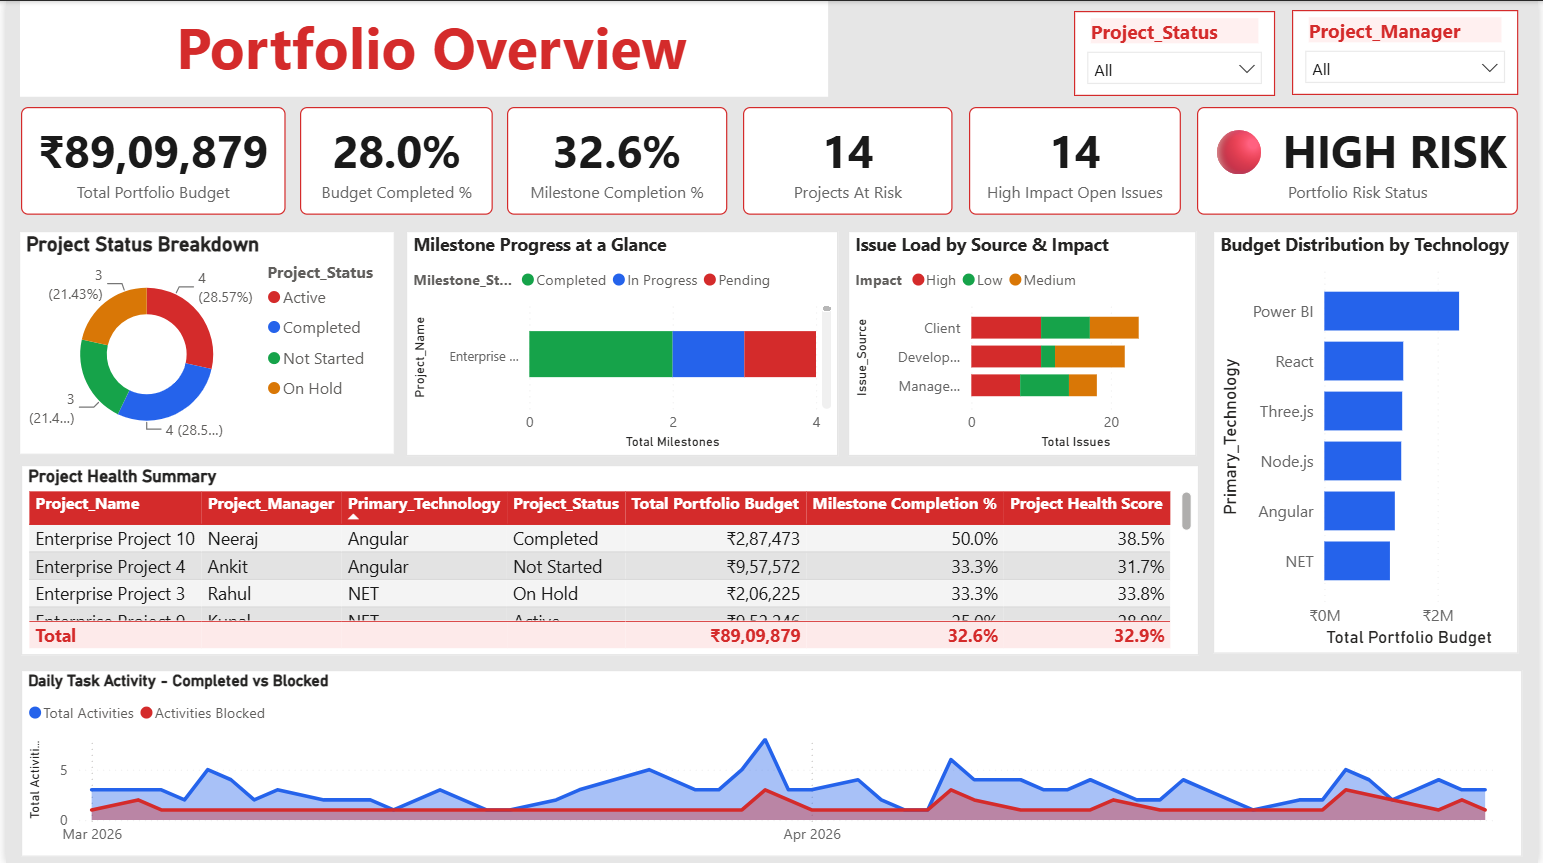

Layout of this report page (visuals, bound fields, positions):
{"tool":"powerbi","page":{"name":"Overview","canvas":[1280,720],"ordinal":0},"visuals":[{"type":"card","fields":{"Values":["_Measures.Total Portfolio Budget"]},"box":[12.5,88.4,220.9,90.1],"z":0},{"type":"card","fields":{"Values":["_Measures.Budget Completed %"]},"box":[245.2,88.4,161.4,90.1],"z":1000},{"type":"card","fields":{"Values":["_Measures.Milestone Completion %"]},"box":[418.6,88.4,183.5,90.1],"z":2000},{"type":"card","fields":{"Values":["_Measures.Projects At Risk"]},"box":[615.7,88.4,175,90.1],"z":3000},{"type":"card","fields":{"Values":["_Measures.High Impact Open Issues"]},"box":[804.3,88.4,176.7,90.1],"z":4000},{"type":"card","fields":{"Values":["_Measures.Portfolio Risk Status"]},"box":[994.6,88.4,268.5,90.1],"z":5000},{"type":"donutChart","title":"Project Status Breakdown","fields":{"Category":["Project_Master.Project_Status"],"Y":["_Measures.Total Projects"]},"box":[10.8,192,314.3,186.9],"z":6000},{"type":"barChart","title":"Budget Distribution by Technology","fields":{"Category":["Project_Master.Primary_Technology"],"Y":["_Measures.Total Portfolio Budget"]},"box":[1008.1,192,254.9,353.4],"z":7000},{"type":"barChart","title":"Milestone Progress at a Glance","fields":{"Category":["Project_Master.Project_Name"],"Y":["_Measures.Total Milestones"],"Series":["Milestones.Milestone_Status"]},"box":[333.9,192.2,361.5,187.5],"z":8000},{"type":"barChart","title":"Issue Load by Source & Impact","fields":{"Category":["Issue_Log.Issue_Source"],"Y":["_Measures.Total Issues"],"Series":["Issue_Log.Impact"]},"box":[703.3,191.9,290.8,187.6],"z":9000},{"type":"areaChart","title":"Daily Task Activity - Completed vs Blocked","fields":{"Category":["Daily_Activity.Date.Variation.Date Hierarchy.Year","Daily_Activity.Date.Variation.Date Hierarchy.Quarter","Daily_Activity.Date.Variation.Date Hierarchy.Month","Daily_Activity.Date.Variation.Date Hierarchy.Day"],"Y":["_Measures.Total Activities","_Measures.Activities Blocked"]},"box":[12.5,559,1254,156.3],"z":10000},{"type":"tableEx","title":"Project Health Summary","fields":{"Values":["Project_Master.Project_Name","Project_Master.Project_Manager","Project_Master.Primary_Technology","Project_Master.Project_Status","_Measures.Total Portfolio Budget","_Measures.Milestone Completion %","_Measures.Project Health Score"]},"box":[12.6,388,983.8,158.8],"z":11000},{"type":"slicer","fields":{"Values":["Project_Master.Project_Manager"]},"box":[1074.4,7.8,188.9,71.1],"z":12000},{"type":"slicer","fields":{"Values":["Project_Master.Project_Status"]},"box":[892,8.5,168.2,71.4],"z":13000},{"type":"textbox","box":[11.5,0,674.7,80.2],"z":14000}]}

Visuals, with their boxes in screenshot pixels (x1, y1, x2, y2), scaled from the page's 1280x720 canvas onto the 1543x863 screenshot:
card - _Measures.Total Portfolio Budget: <bbox>15, 106, 281, 214</bbox>
card - _Measures.Budget Completed %: <bbox>296, 106, 490, 214</bbox>
card - _Measures.Milestone Completion %: <bbox>505, 106, 726, 214</bbox>
card - _Measures.Projects At Risk: <bbox>742, 106, 953, 214</bbox>
card - _Measures.High Impact Open Issues: <bbox>970, 106, 1183, 214</bbox>
card - _Measures.Portfolio Risk Status: <bbox>1199, 106, 1523, 214</bbox>
"Project Status Breakdown" donutChart: <bbox>13, 230, 392, 454</bbox>
"Budget Distribution by Technology" barChart: <bbox>1215, 230, 1523, 654</bbox>
"Milestone Progress at a Glance" barChart: <bbox>403, 230, 838, 455</bbox>
"Issue Load by Source & Impact" barChart: <bbox>848, 230, 1198, 455</bbox>
"Daily Task Activity - Completed vs Blocked" areaChart: <bbox>15, 670, 1527, 857</bbox>
"Project Health Summary" tableEx: <bbox>15, 465, 1201, 655</bbox>
slicer - Project_Master.Project_Manager: <bbox>1295, 9, 1523, 95</bbox>
slicer - Project_Master.Project_Status: <bbox>1075, 10, 1278, 96</bbox>
textbox: <bbox>14, 0, 827, 96</bbox>
